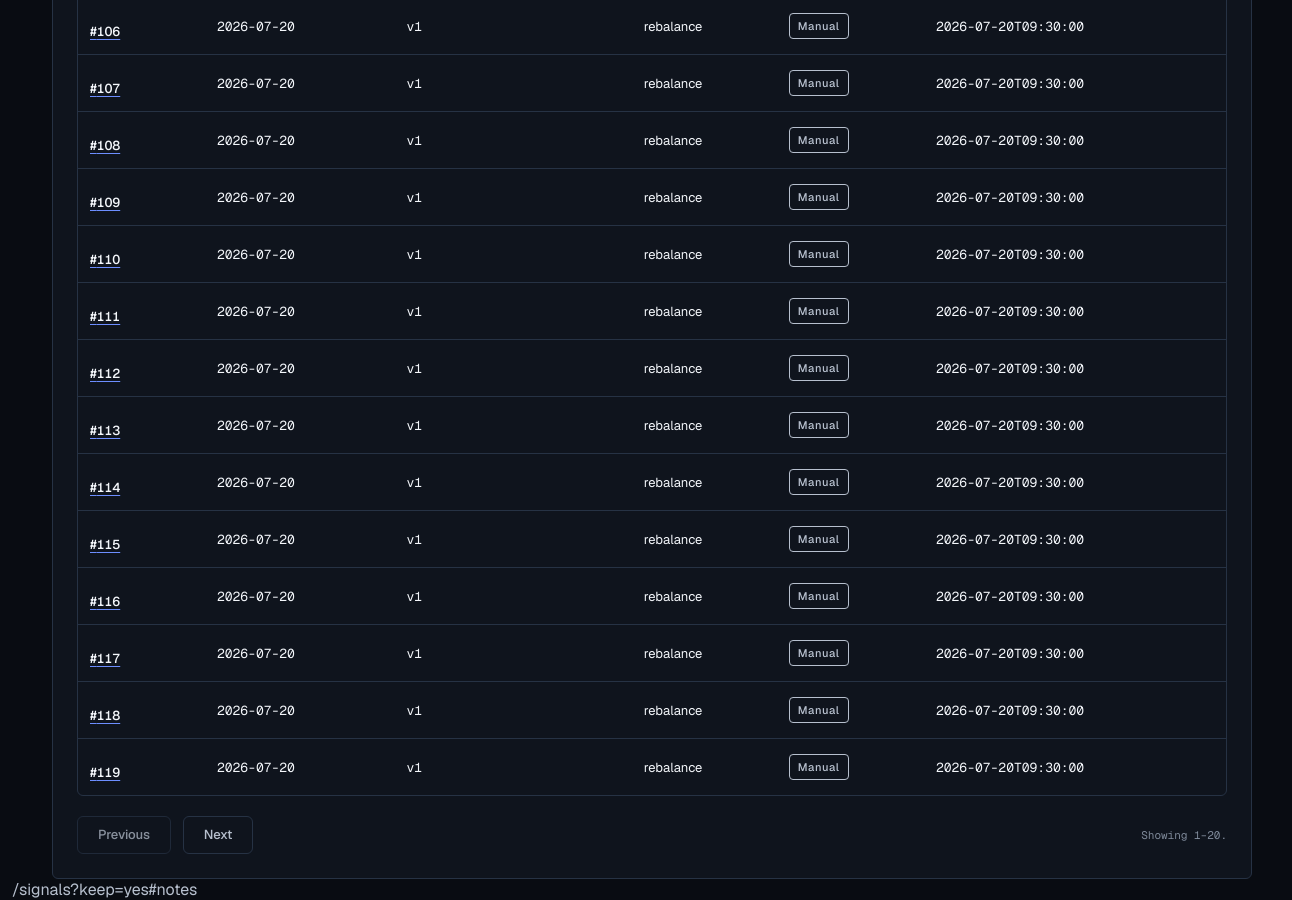
Test: writes the offset to the URL and keeps it out of the way of the source filter
The image size is (1292, 900).
(page scrolled)
Step 1. Click the button "Next" → [218, 835], box [183,816,253,854]
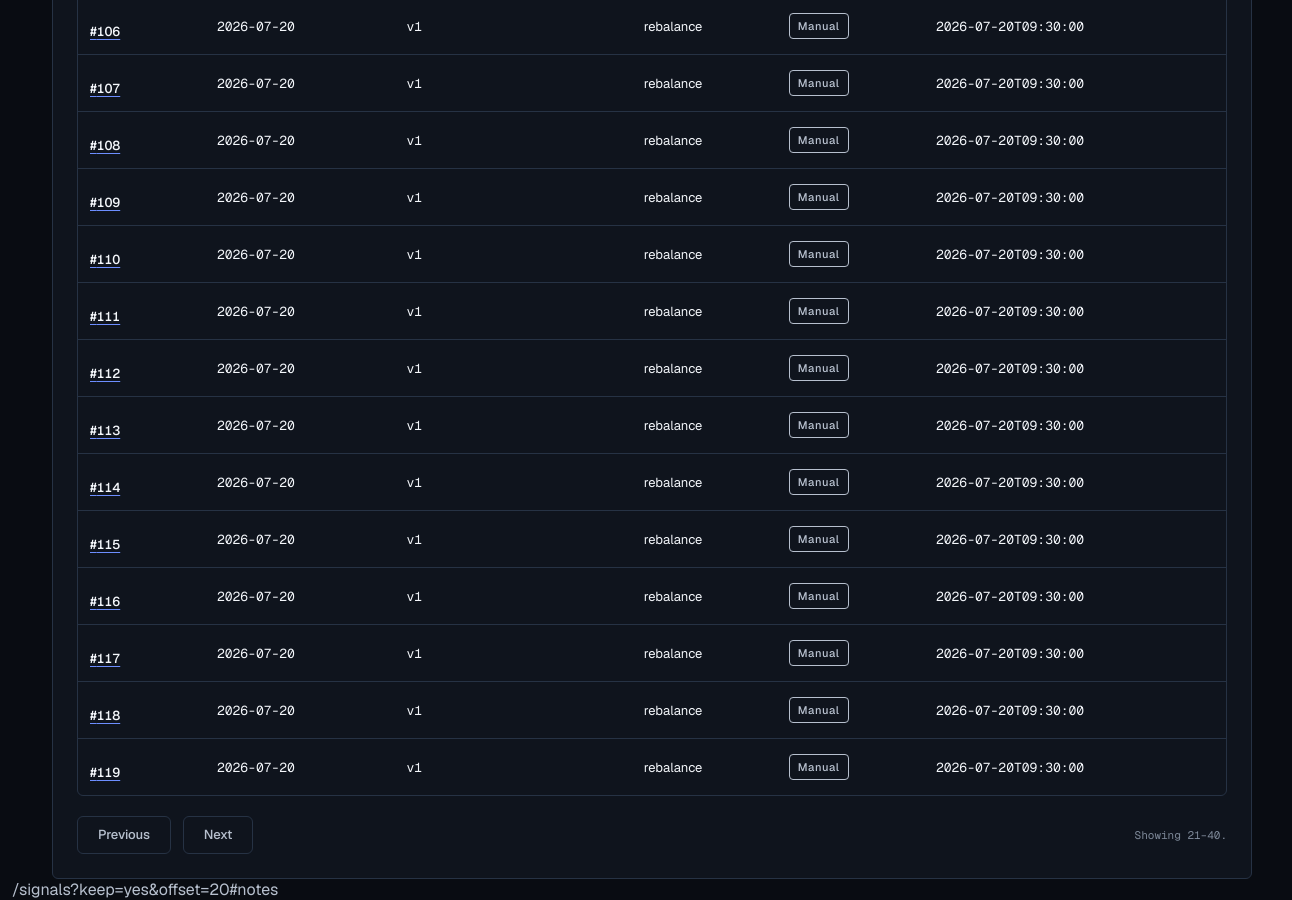
Expected: the text with test id "location-probe" reads "/signals?keep=yes&offset=20#notes", [12,879,278,899]
